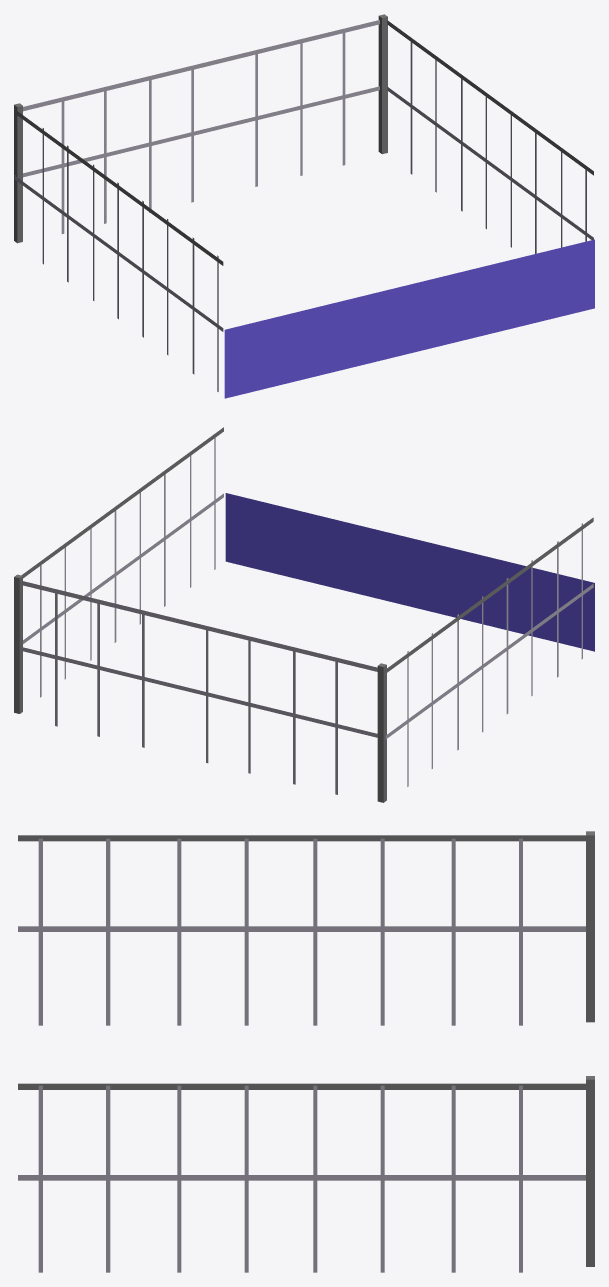
The model's file is kennel.dae.
The picture shows the model from 3 angles, top to bottom: view 1: azimuth 30°, elevation 25°; view 2: azimuth 150°, elevation 25°; view 3: azimuth 270°, elevation 25°; orthographic projection. The views are drawn at different scales.
Visible parts, largest first — view 1: kennel; view 2: kennel; view 3: kennel.
Part boxes in pixels (<box>): kennel: <box>14,14,594,398</box>; kennel: <box>14,427,594,802</box>; kennel: <box>18,831,594,1272</box>.
Bounding box in the file's own units: 4.08 × 4.03 × 1.47.
2 materials, 1 textured.
